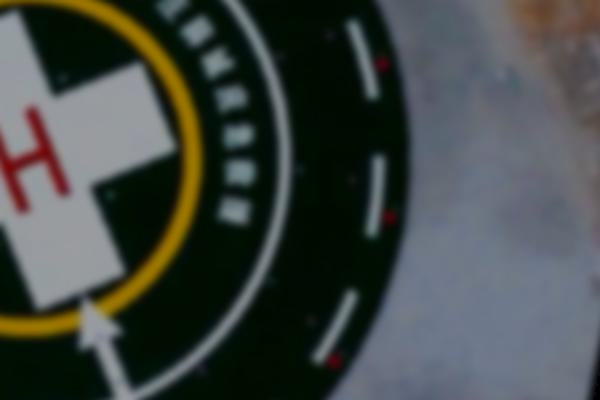Apron: (1, 1, 210, 338)
